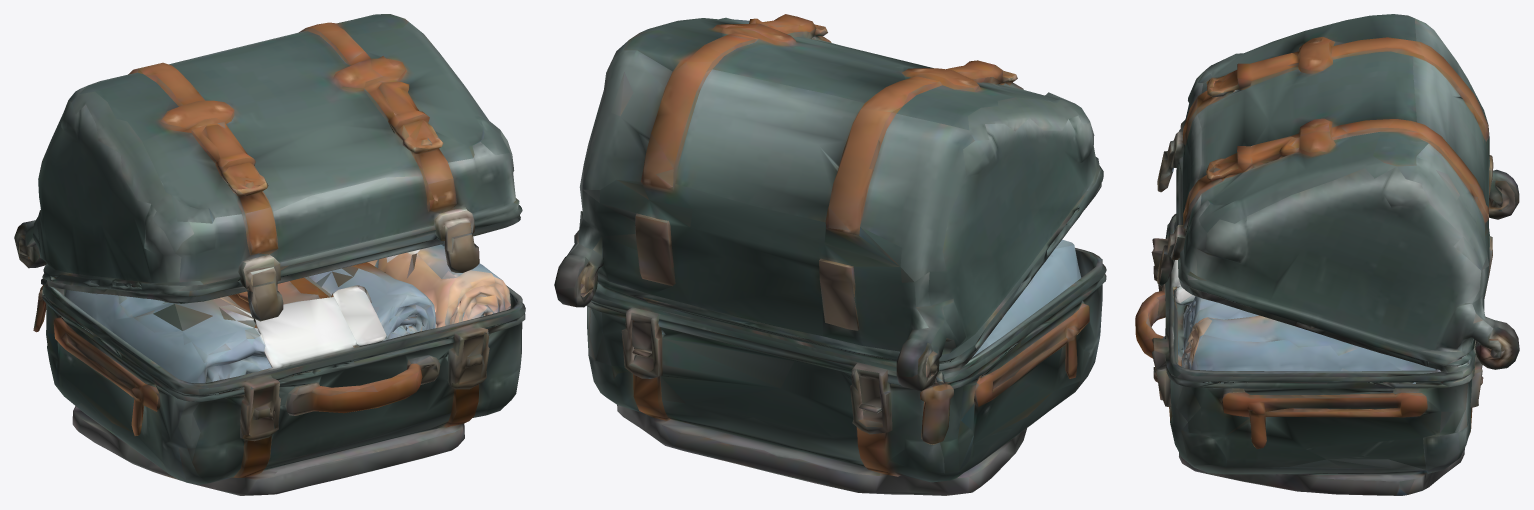
File: sc-open-suitcase.glb
The picture shows the model from 3 angles, left to right: view 1: azimuth 30°, elevation 25°; view 2: azimuth 150°, elevation 25°; view 3: azimuth 270°, elevation 25°; orthographic projection. The views are drawn at different scales.
Visible parts, largest first — view 1: geometry_0; view 2: geometry_0; view 3: geometry_0.
Part boxes in pixels (x1,y1,x2,y2): geometry_0: (14,14,525,495); geometry_0: (554,14,1106,495); geometry_0: (1135,14,1519,495).
Size of the model in its own units: 1 by 0.9218 by 0.9418.
Materials: 1 (1 with a texture image).
